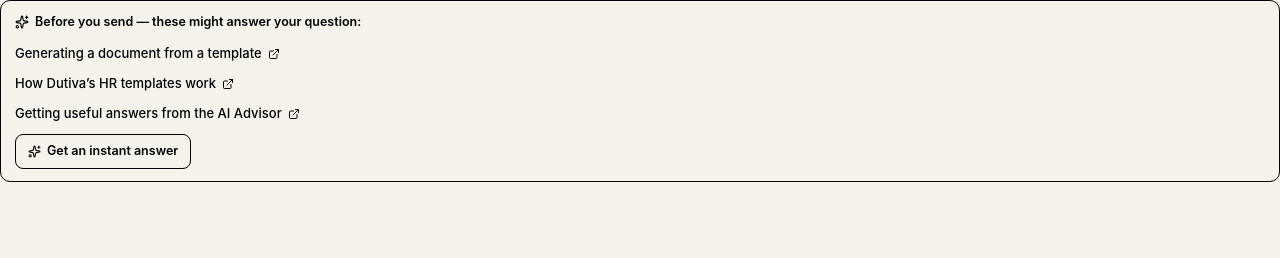
Test: FirstLineSuggestions › generates a grounded answer with the not-legal-advice disclaimer
The width and height of the screenshot is (1280, 258).
Step 1. Click the button "Get an instant answer" → (103, 151), box [15, 134, 191, 169]
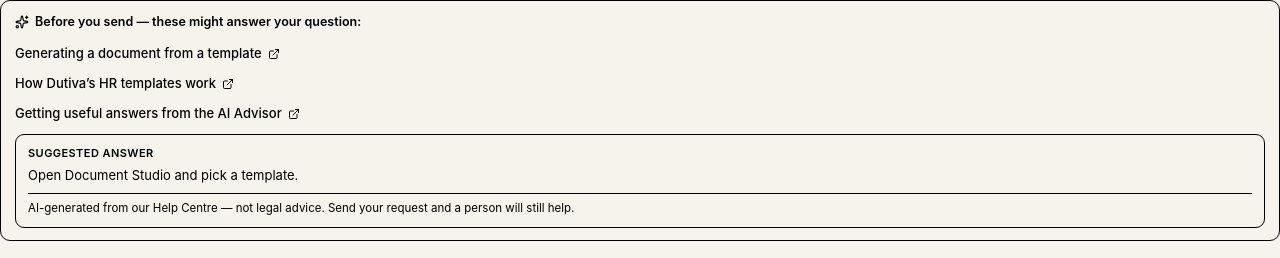
Result: the text "Open Document Studio and pick a template." is shown at [28, 167, 298, 183]
Result: the text "not legal advice" is shown at [28, 201, 574, 215]
